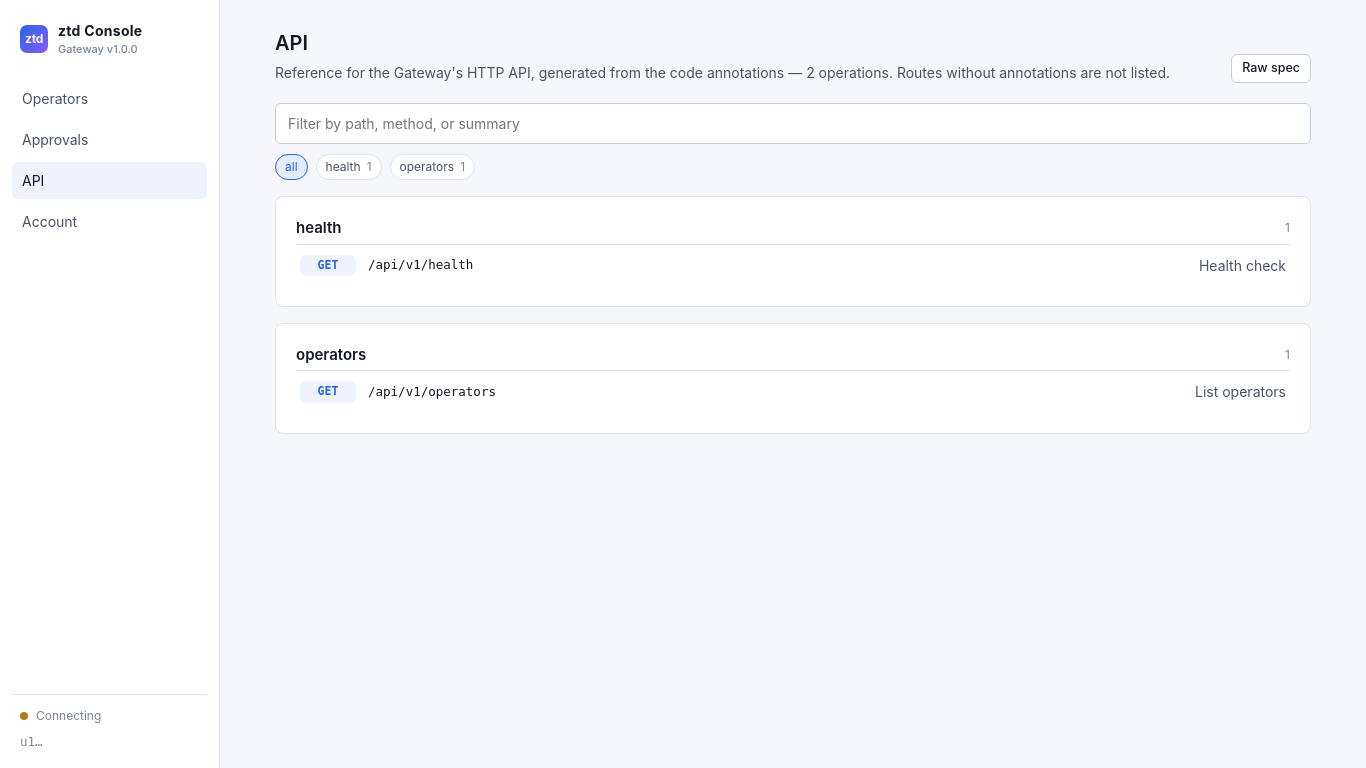
Scenario: API reference › loads the spec with the session cookie and renders operations grouped by tag
Expected: the heading "API" is shown, [275, 31, 308, 55]
Expected: the text "/api/v1/operators" is shown, [368, 382, 496, 401]
Click the button "GET /api/v1/operators List operators". click: {"x": 328, "y": 392}
box: [296, 371, 1290, 413]
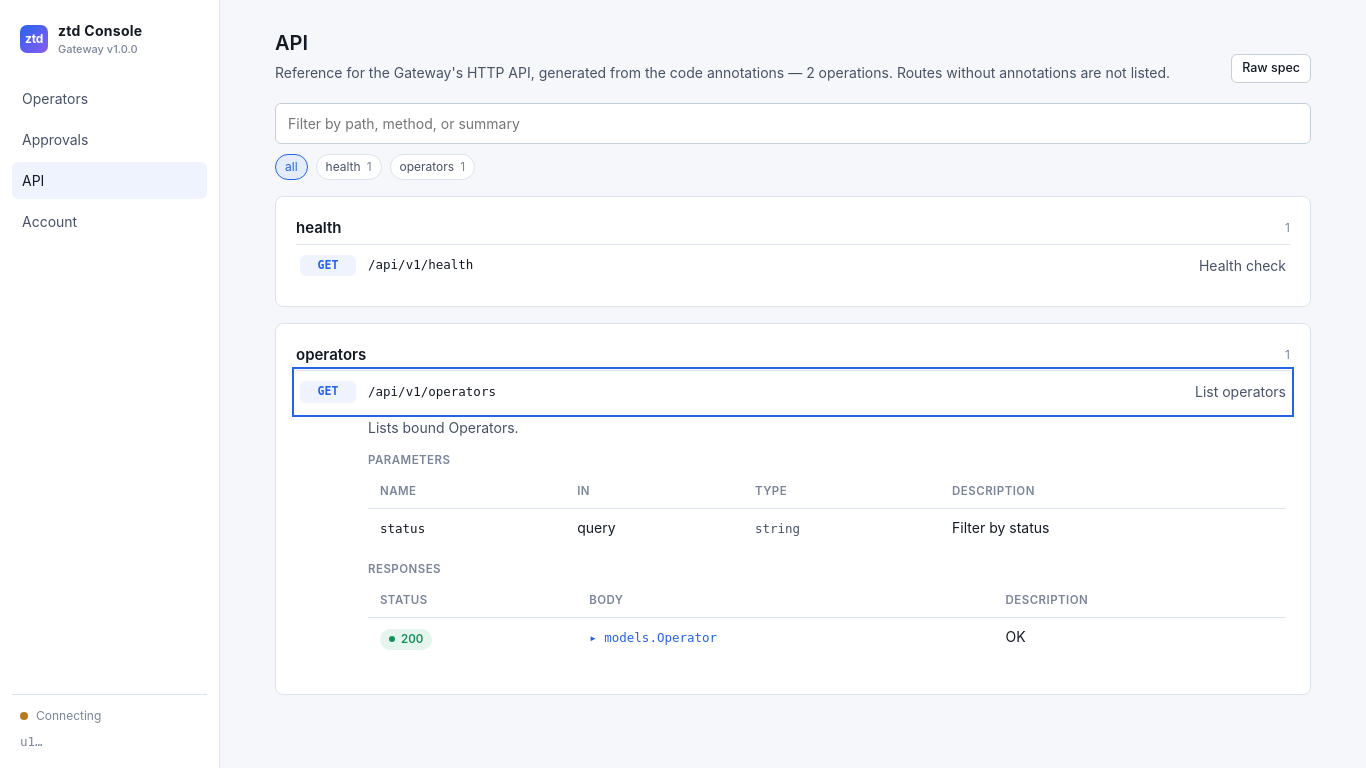
Expected: the text "Filter by status" is shown, [940, 508, 1286, 547]
Click the button "▸ models.Operator". click: {"x": 653, "y": 639}
box: [589, 629, 717, 648]
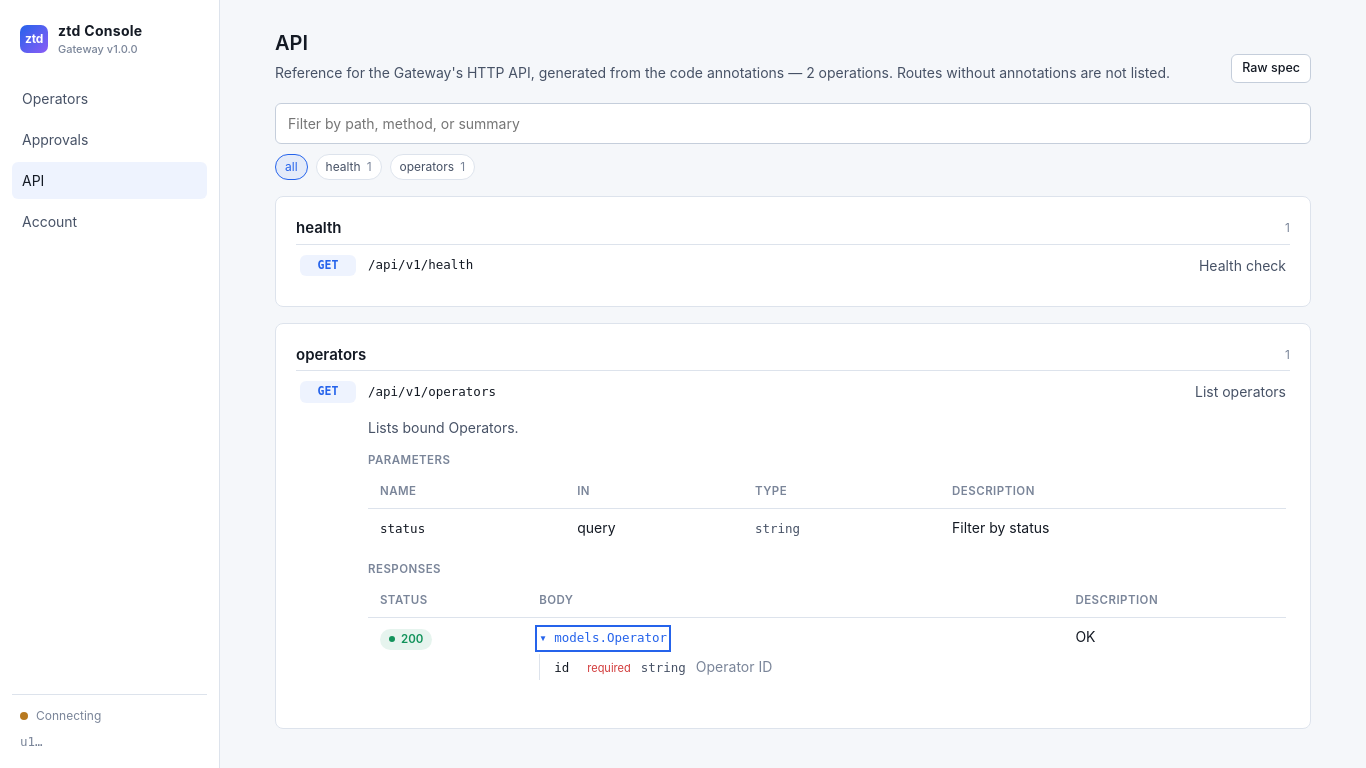
Expected: the text "Operator ID" is shown, [696, 656, 772, 677]
